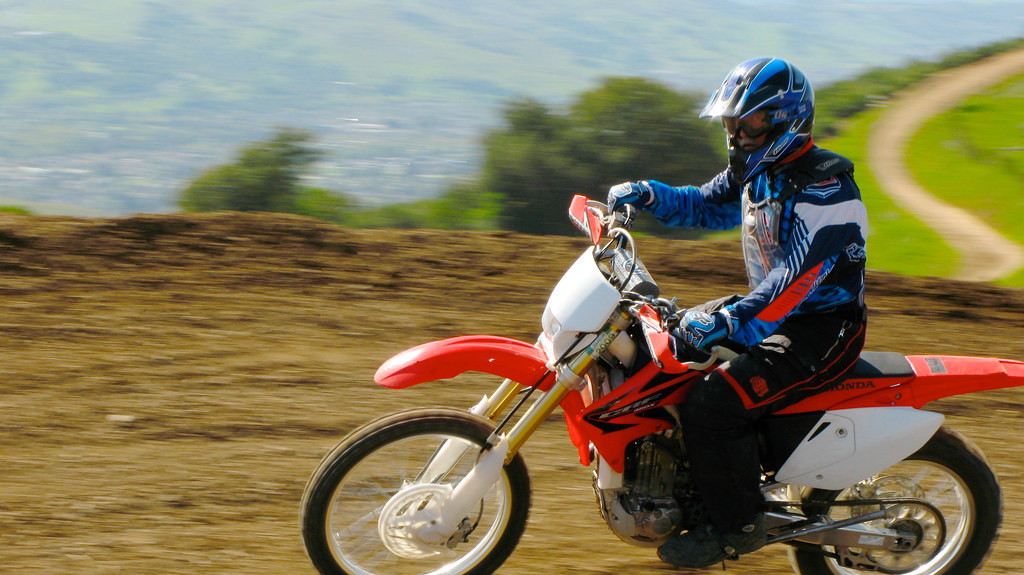helmet: (706, 64, 826, 170)
